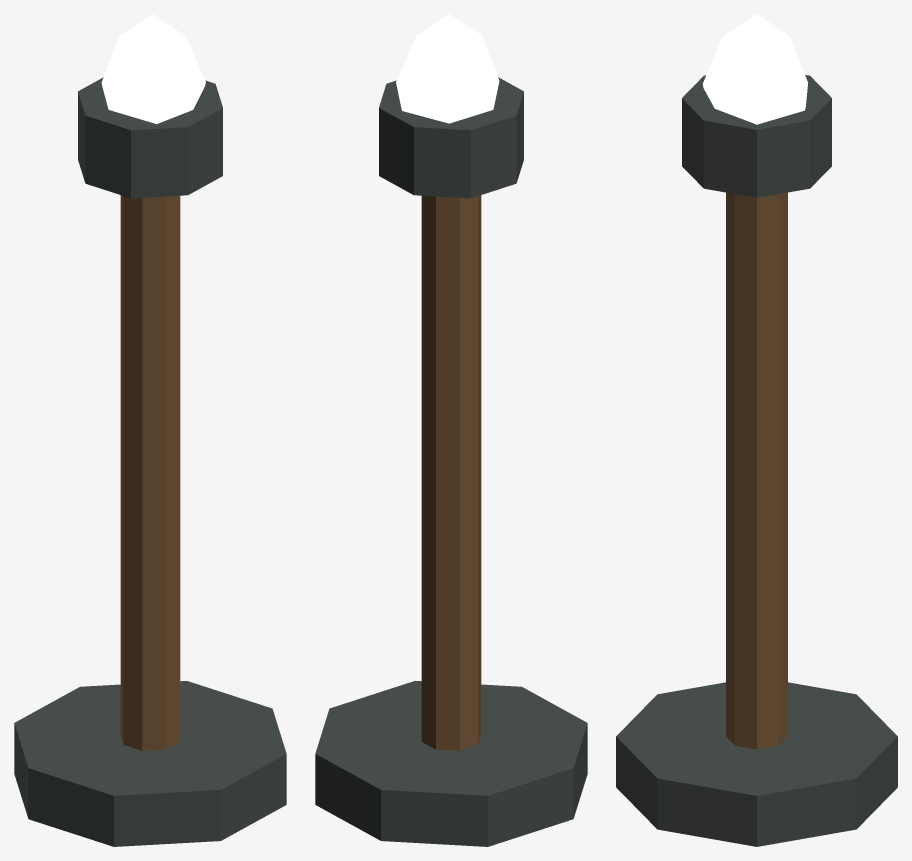
The model's file is Torch.gltf.
The picture shows the model from 3 angles, left to right: view 1: azimuth 30°, elevation 25°; view 2: azimuth 150°, elevation 25°; view 3: azimuth 270°, elevation 25°; orthographic projection.
Visible parts, largest first — view 1: Torch; view 2: Torch; view 3: Torch.
Part boxes in pixels (bbox=[...]): Torch: bbox=[14, 14, 286, 846]; Torch: bbox=[315, 14, 587, 846]; Torch: bbox=[616, 14, 897, 846].
Bounding box in the file's own units: 0.3 × 0.91 × 0.3.
